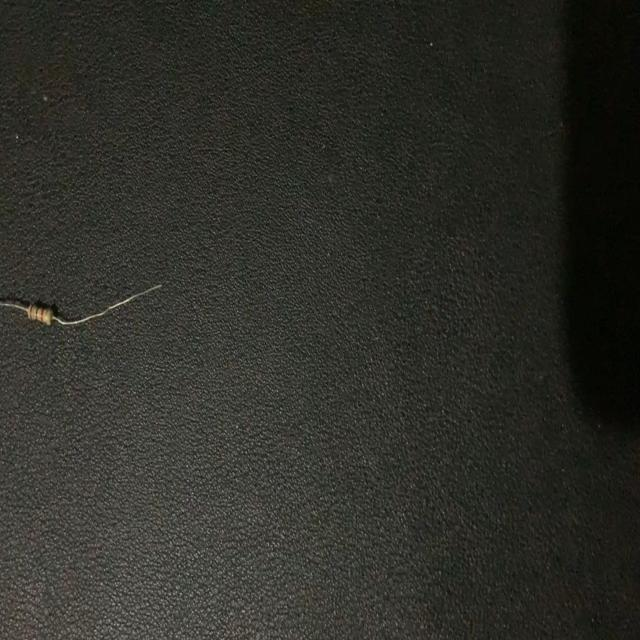resistor: (0, 271, 164, 333)
